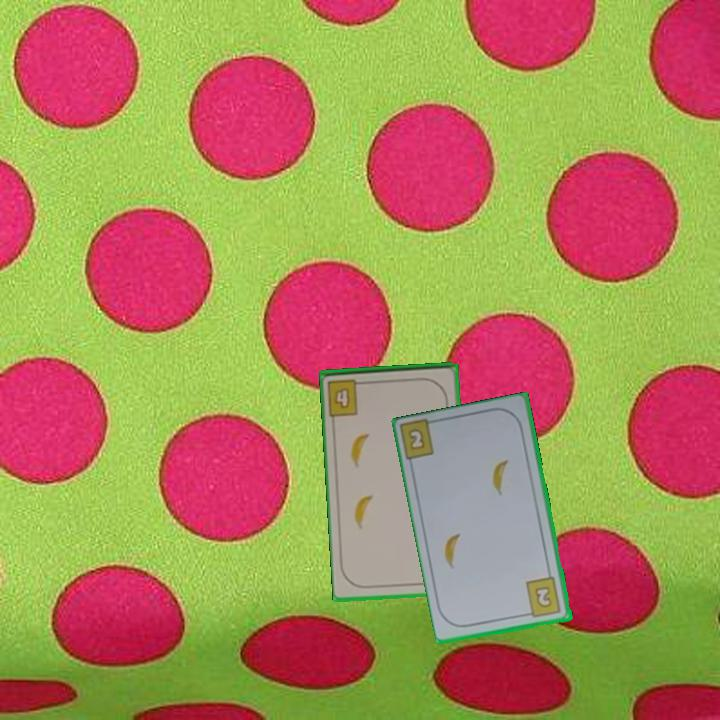2b: (522, 574, 564, 621), (405, 425, 428, 453)
4b: (324, 375, 369, 419)
